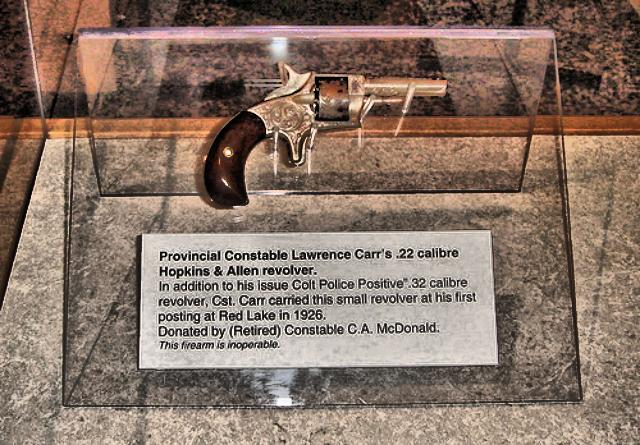pistol: (204, 55, 448, 206)
